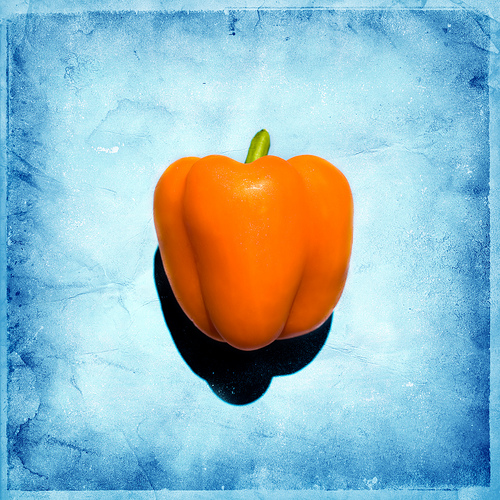capsicum: (151, 127, 352, 353)
